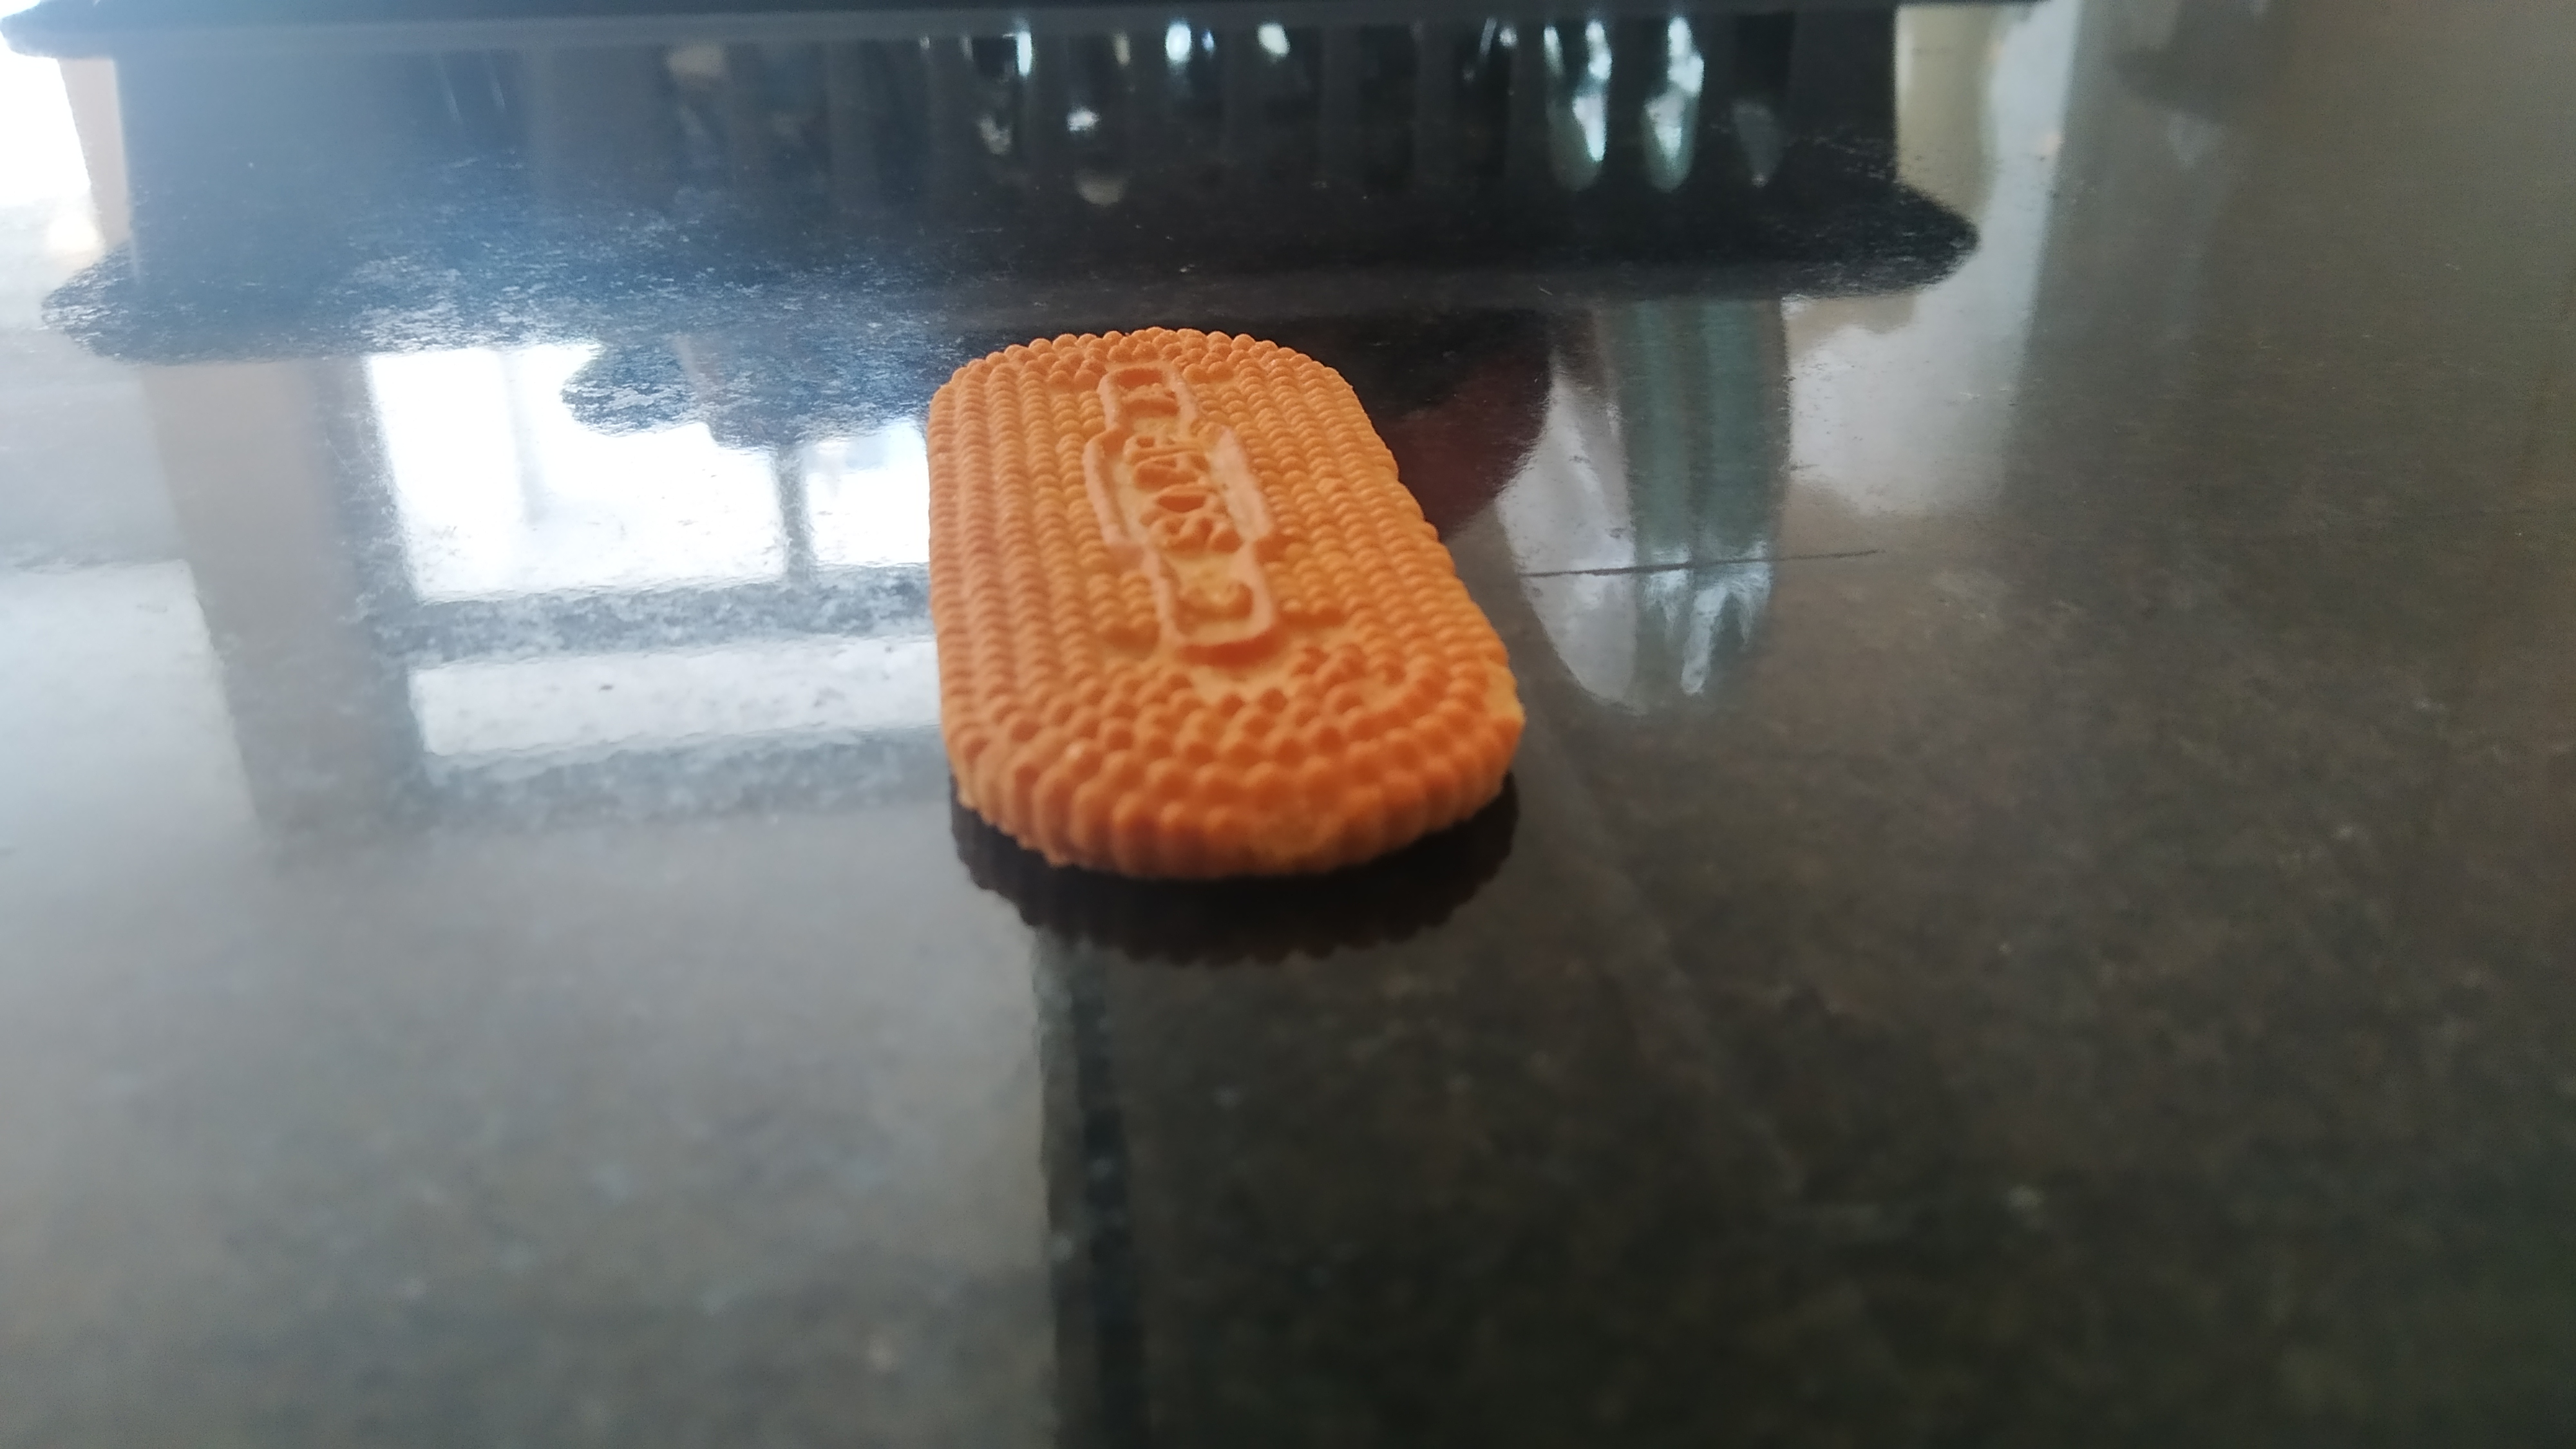solar: (927, 327, 1525, 881)
